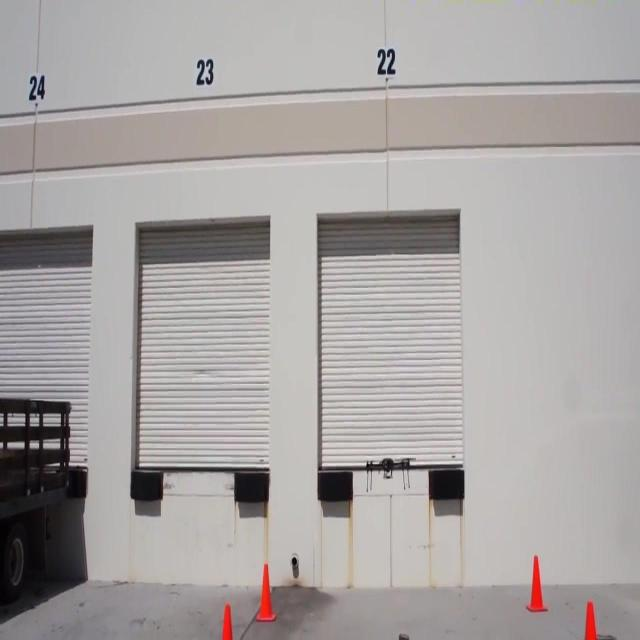drone: (364, 455, 416, 491)
